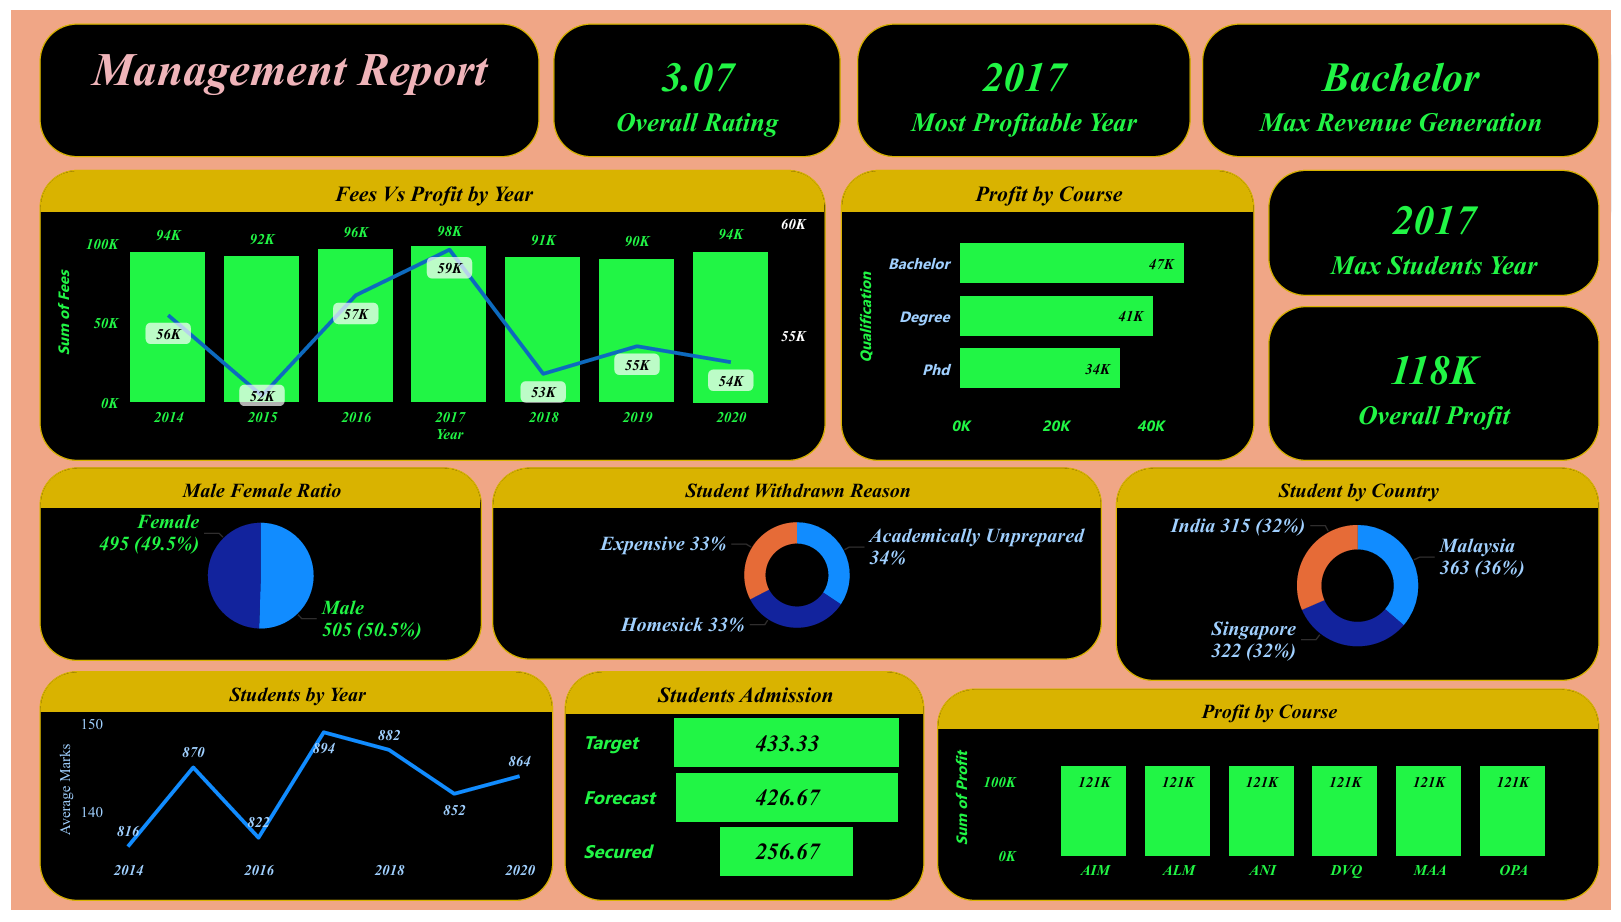

What the dashboard file says about the page in this screenshot:
{"tool":"powerbi","page":{"name":"Management Report","canvas":[1280,720],"ordinal":2},"visuals":[{"type":"textbox","box":[22.1,10.5,400,107],"z":0},{"type":"lineStackedColumnComboChart","title":"Fees Vs Profit by Year","fields":{"Category":["Student.Year"],"Y":["Sum(SOC.Fees)"],"Y2":["Sum(SOC.Profit)"]},"box":[22.1,126.7,629.1,233.7],"z":1000},{"type":"card","title":"Performance Report of","fields":{"Values":["Avg(Feedback.Q05 - I would like to recommend this educational institution to others?)"]},"box":[432.6,10.5,230.2,107],"z":2000},{"type":"card","title":"Performance Report of","fields":{"Values":["Median(Student.Year)"]},"box":[675.6,10.5,267.4,107],"z":3000},{"type":"card","title":"Max Students Year","fields":{"Values":["Min(SOC.Qualification)"]},"box":[952.3,10.5,317.4,107],"z":4000},{"type":"card","title":"Performance Report of","fields":{"Values":["Median(Student.Year)"]},"box":[1004.7,126.7,265.1,101.2],"z":5000},{"type":"barChart","title":"Profit by Course","fields":{"Category":["SOC.Qualification"],"Y":["Sum(SOC.Profit)"]},"box":[662.8,126.7,331.4,233.7],"z":6000},{"type":"pieChart","title":"Male Female Ratio","fields":{"Y":["CountNonNull(Student.Student ID)"],"Category":["Student.Gender"]},"box":[22.1,365.1,353.5,154.7],"z":7000},{"type":"donutChart","title":"Student Withdrawn Reason","fields":{"Y":["CountNonNull(Student.Student ID)"],"Category":["Student.Reason For Withdrawal"]},"box":[383.7,365.1,488.4,153.5],"z":8000},{"type":"donutChart","title":"Student by Country","fields":{"Y":["CountNonNull(Student.Student ID)"],"Category":["SOC.Country"]},"box":[882.6,365.1,387.2,170.9],"z":9000},{"type":"lineChart","title":"Students by Year","fields":{"Category":["Student.Year"],"Y":["Count(Student.Student ID)"]},"box":[22.1,527.9,410.5,183.7],"z":10000},{"type":"funnel","title":"Students Admission","fields":{"Y":["Avg(Cohort.Target Pax)","Avg(Cohort.Forecast Pax)","Avg(Cohort.Secured Pax)"]},"box":[441.9,527.9,288.4,183.7],"z":11000},{"type":"columnChart","title":"Profit by Course","fields":{"Y":["Sum(SOC.Profit)"],"Category":["Faculty.Module Name"]},"box":[739.5,541.9,530.2,169.8],"z":12000},{"type":"card","title":"Performance Report of","fields":{"Values":["Sum(SOC.Profit)"]},"box":[1004.7,236,265.1,124.4],"z":13000}]}

Visuals, with their boxes in screenshot pixels (x1, y1, x2, y2), scaled from the page's 1280x720 canvas onto the 1621x922 screenshot:
textbox: <box>28,13,535,150</box>
"Fees Vs Profit by Year" lineStackedColumnComboChart: <box>28,162,825,462</box>
"Performance Report of" card: <box>548,13,839,150</box>
"Performance Report of" card: <box>856,13,1194,150</box>
"Max Students Year" card: <box>1206,13,1608,150</box>
"Performance Report of" card: <box>1272,162,1608,292</box>
"Profit by Course" barChart: <box>839,162,1259,462</box>
"Male Female Ratio" pieChart: <box>28,468,476,666</box>
"Student Withdrawn Reason" donutChart: <box>486,468,1104,664</box>
"Student by Country" donutChart: <box>1118,468,1608,686</box>
"Students by Year" lineChart: <box>28,676,548,911</box>
"Students Admission" funnel: <box>560,676,925,911</box>
"Profit by Course" columnChart: <box>937,694,1608,911</box>
"Performance Report of" card: <box>1272,302,1608,462</box>
